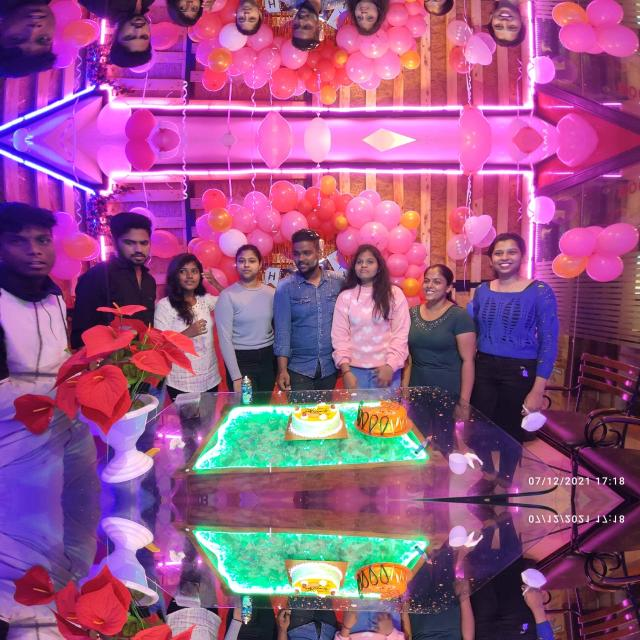person: (2, 198, 92, 500), (472, 235, 562, 450), (270, 222, 344, 396), (1, 500, 92, 640), (346, 242, 408, 404), (164, 254, 230, 396), (227, 235, 283, 381), (472, 549, 561, 640), (98, 209, 162, 333), (1, 0, 92, 82), (98, 0, 161, 71), (270, 0, 344, 58), (472, 0, 561, 44), (345, 595, 408, 640), (270, 604, 344, 640), (227, 0, 283, 45), (345, 0, 408, 38), (164, 604, 230, 640), (164, 0, 230, 25), (227, 619, 283, 640)
